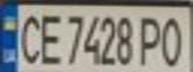2: (96, 11, 121, 66)
4: (81, 10, 100, 65)
7: (60, 10, 84, 65)
8: (115, 12, 139, 66)
C: (12, 9, 45, 65)
E: (33, 10, 63, 66)
O: (157, 11, 190, 68)
P: (136, 11, 166, 66)
